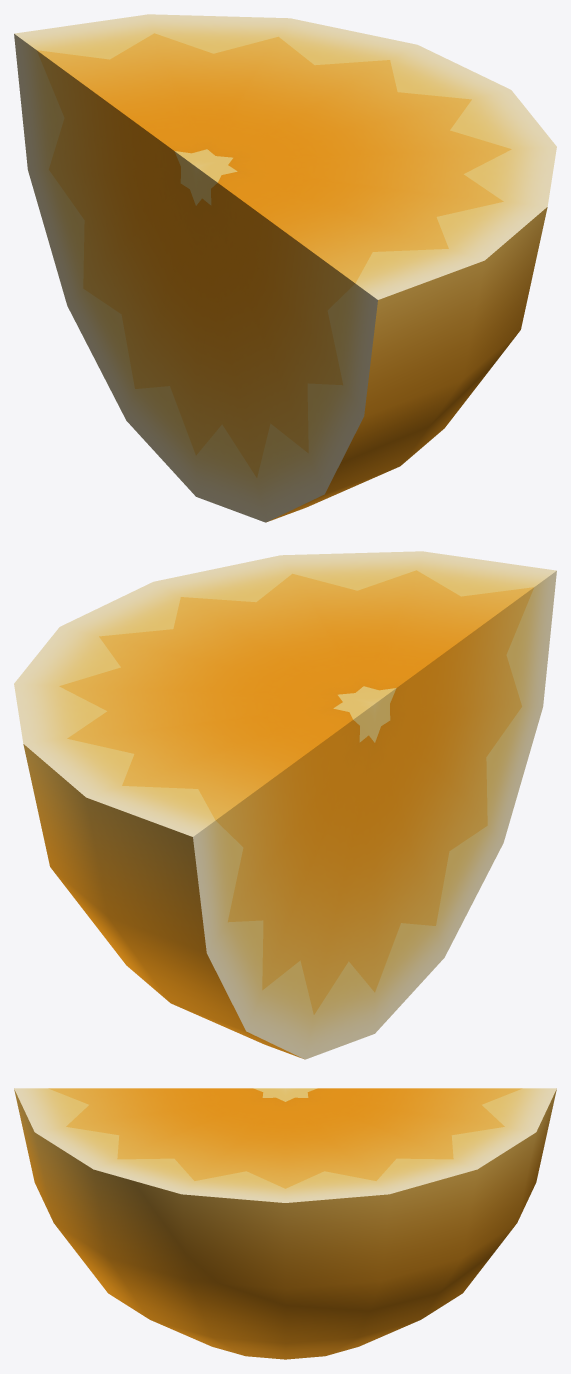
File: Fbx_Fruit_OrangePart.fbx_Wedge.fbx
3 renders of one model, top to bottom at view 1: azimuth 30°, elevation 25°; view 2: azimuth 150°, elevation 25°; view 3: azimuth 270°, elevation 25°, orthographic. The views are drawn at different scales.
Visible parts, largest first — view 1: Fruit Wedge; view 2: Fruit Wedge; view 3: Fruit Wedge.
Boxes of the visible parts, <box> form: Fruit Wedge: <box>14,14,556,522</box>; Fruit Wedge: <box>14,551,556,1059</box>; Fruit Wedge: <box>14,1088,556,1359</box>.
Size of the model in its own units: 1 by 1 by 2.
